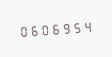five: (72, 18, 82, 35)
four: (83, 18, 93, 34)
nine: (61, 19, 71, 35)
six: (28, 21, 38, 38), (50, 20, 60, 36)
zero: (17, 22, 27, 38), (39, 21, 49, 37)
